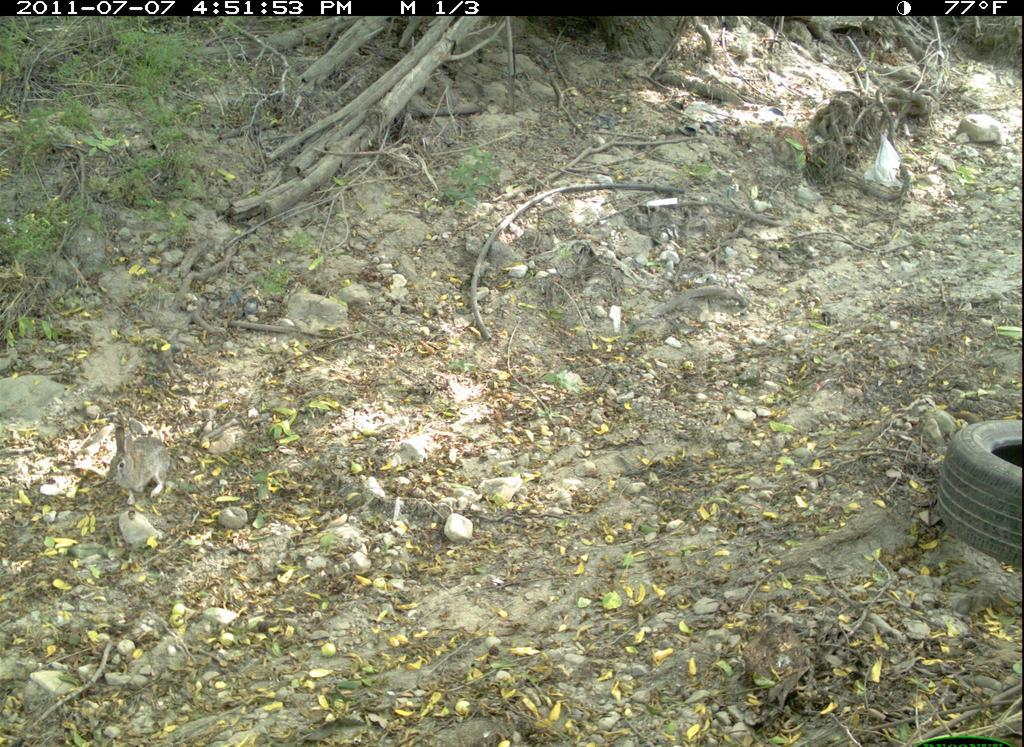rabbit: (106, 424, 176, 507)
